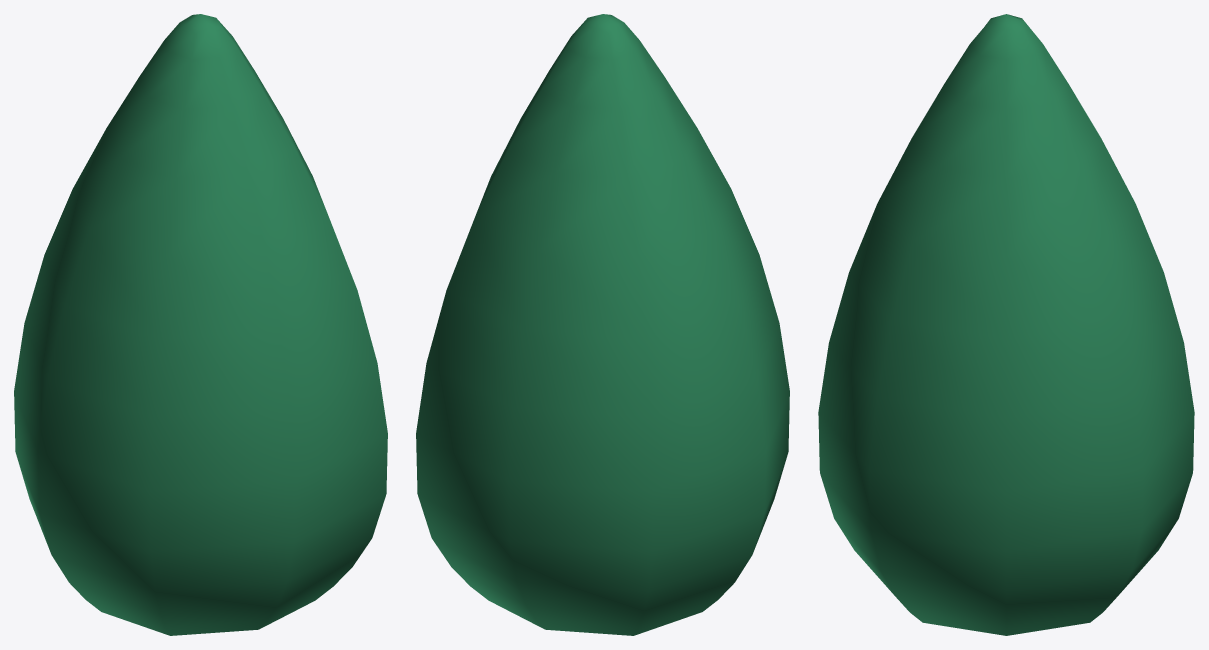
Rendered from ForestTree1.glb.
3 views of the same model, side by side, from view 1: azimuth 30°, elevation 25°; view 2: azimuth 150°, elevation 25°; view 3: azimuth 270°, elevation 25° (orthographic).
Parts seen in each view (by area): view 1: Cube.001; view 2: Cube.001; view 3: Cube.001.
Part boxes in pixels (x1=…): Cube.001: x1=14, y1=14, x2=387, y2=635; Cube.001: x1=416, y1=14, x2=789, y2=635; Cube.001: x1=818, y1=14, x2=1194, y2=635.
Bounding box in the file's own units: 2.29 × 3.86 × 2.29.
